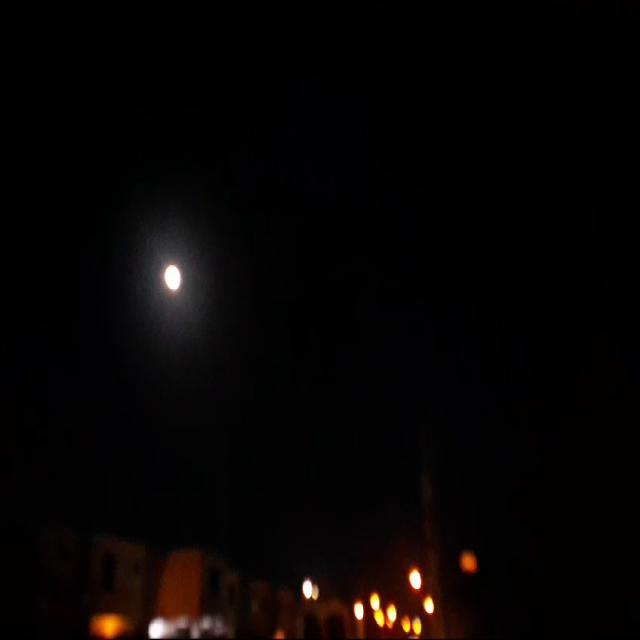moon: (160, 261, 181, 297)
